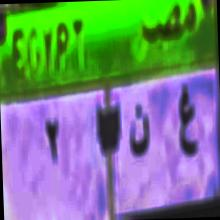2: (34, 108, 70, 168)
ghayn: (173, 75, 199, 173)
noon: (128, 96, 152, 168)
